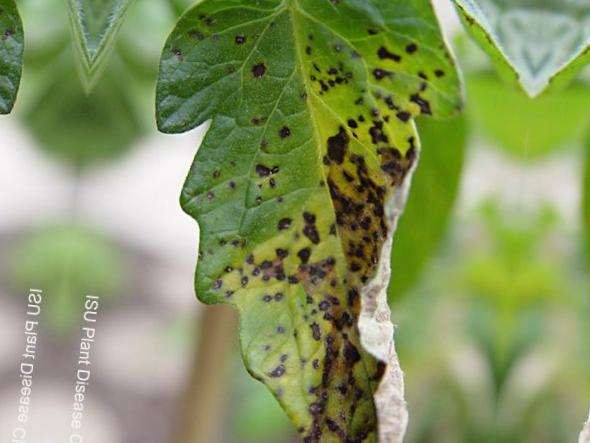Tomato Septoria leaf spot: (101, 0, 500, 443)
